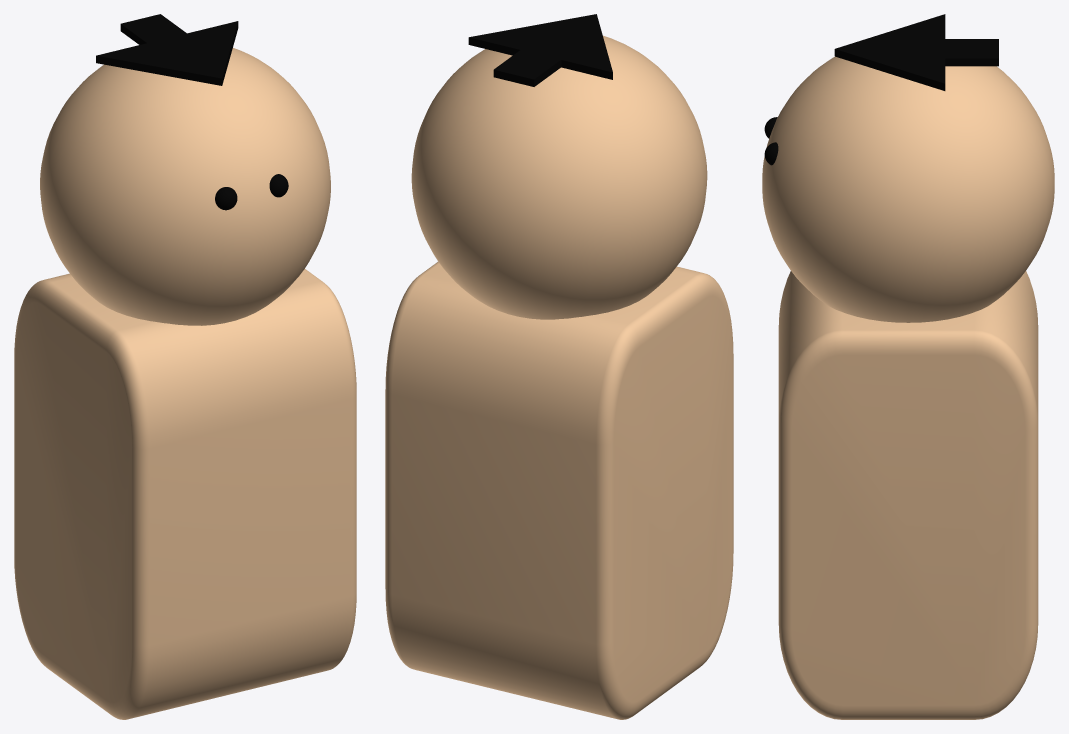
File: 2newb.obj
The picture shows the model from 3 angles, left to right: view 1: azimuth 30°, elevation 25°; view 2: azimuth 150°, elevation 25°; view 3: azimuth 270°, elevation 25°; orthographic projection.
Visible parts, largest first — view 1: Curve.002_Curve.003, Curve.002_Curve.004_Curve.002_Curve.001; view 2: Curve.002_Curve.003, Curve.002_Curve.004_Curve.002_Curve.001; view 3: Curve.002_Curve.003, Curve.002_Curve.004_Curve.002_Curve.001.
Part boxes in pixels (x1=…): Curve.002_Curve.003: x1=14, y1=48, x2=356, y2=719; Curve.002_Curve.004_Curve.002_Curve.001: x1=96, y1=14, x2=288, y2=210; Curve.002_Curve.003: x1=385, y1=35, x2=733, y2=719; Curve.002_Curve.004_Curve.002_Curve.001: x1=468, y1=14, x2=612, y2=86; Curve.002_Curve.003: x1=762, y1=56, x2=1054, y2=719; Curve.002_Curve.004_Curve.002_Curve.001: x1=764, y1=14, x2=998, y2=165.
Size of the model in its own units: 0.2062 by 0.4819 by 0.2057.
